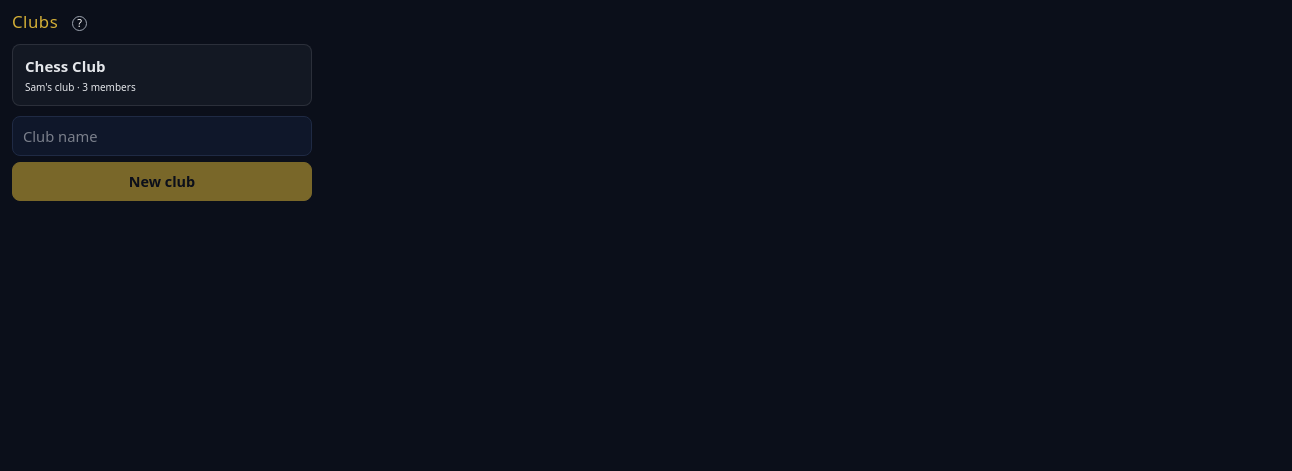
Test: ClubsSection › a closed poll can't be voted in
The image size is (1292, 471).
Step 1. Click the button "Chess Club Sam's club · 3 members" → {"x": 65, "y": 66}, box top-left (12, 44), bottom-right (312, 106)
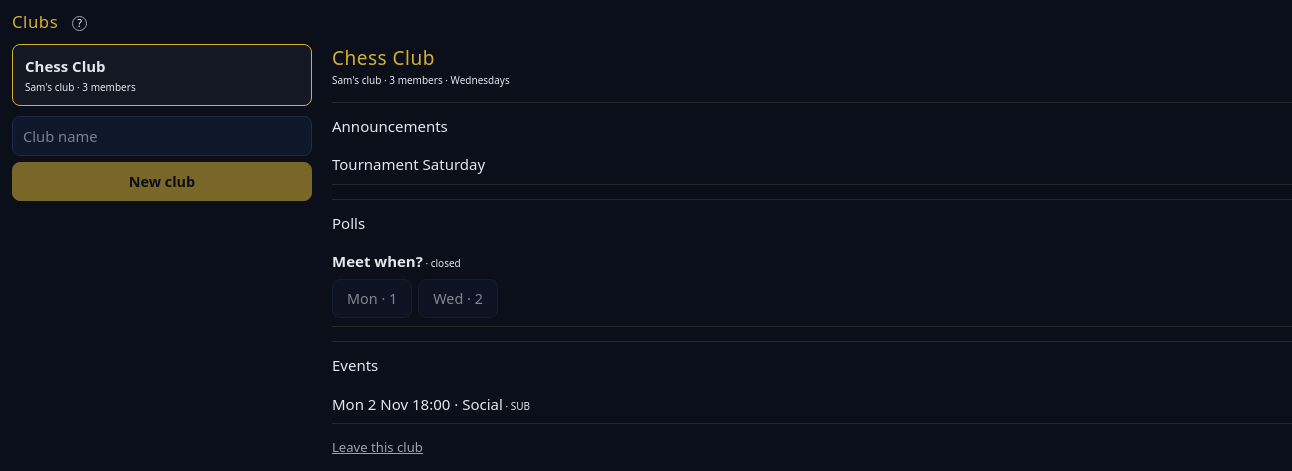
Check: the button "Mon · 1" is disabled, box top-left (332, 279), bottom-right (412, 318)
Check: the text "· closed" is shown, box top-left (423, 256), bottom-right (461, 270)
